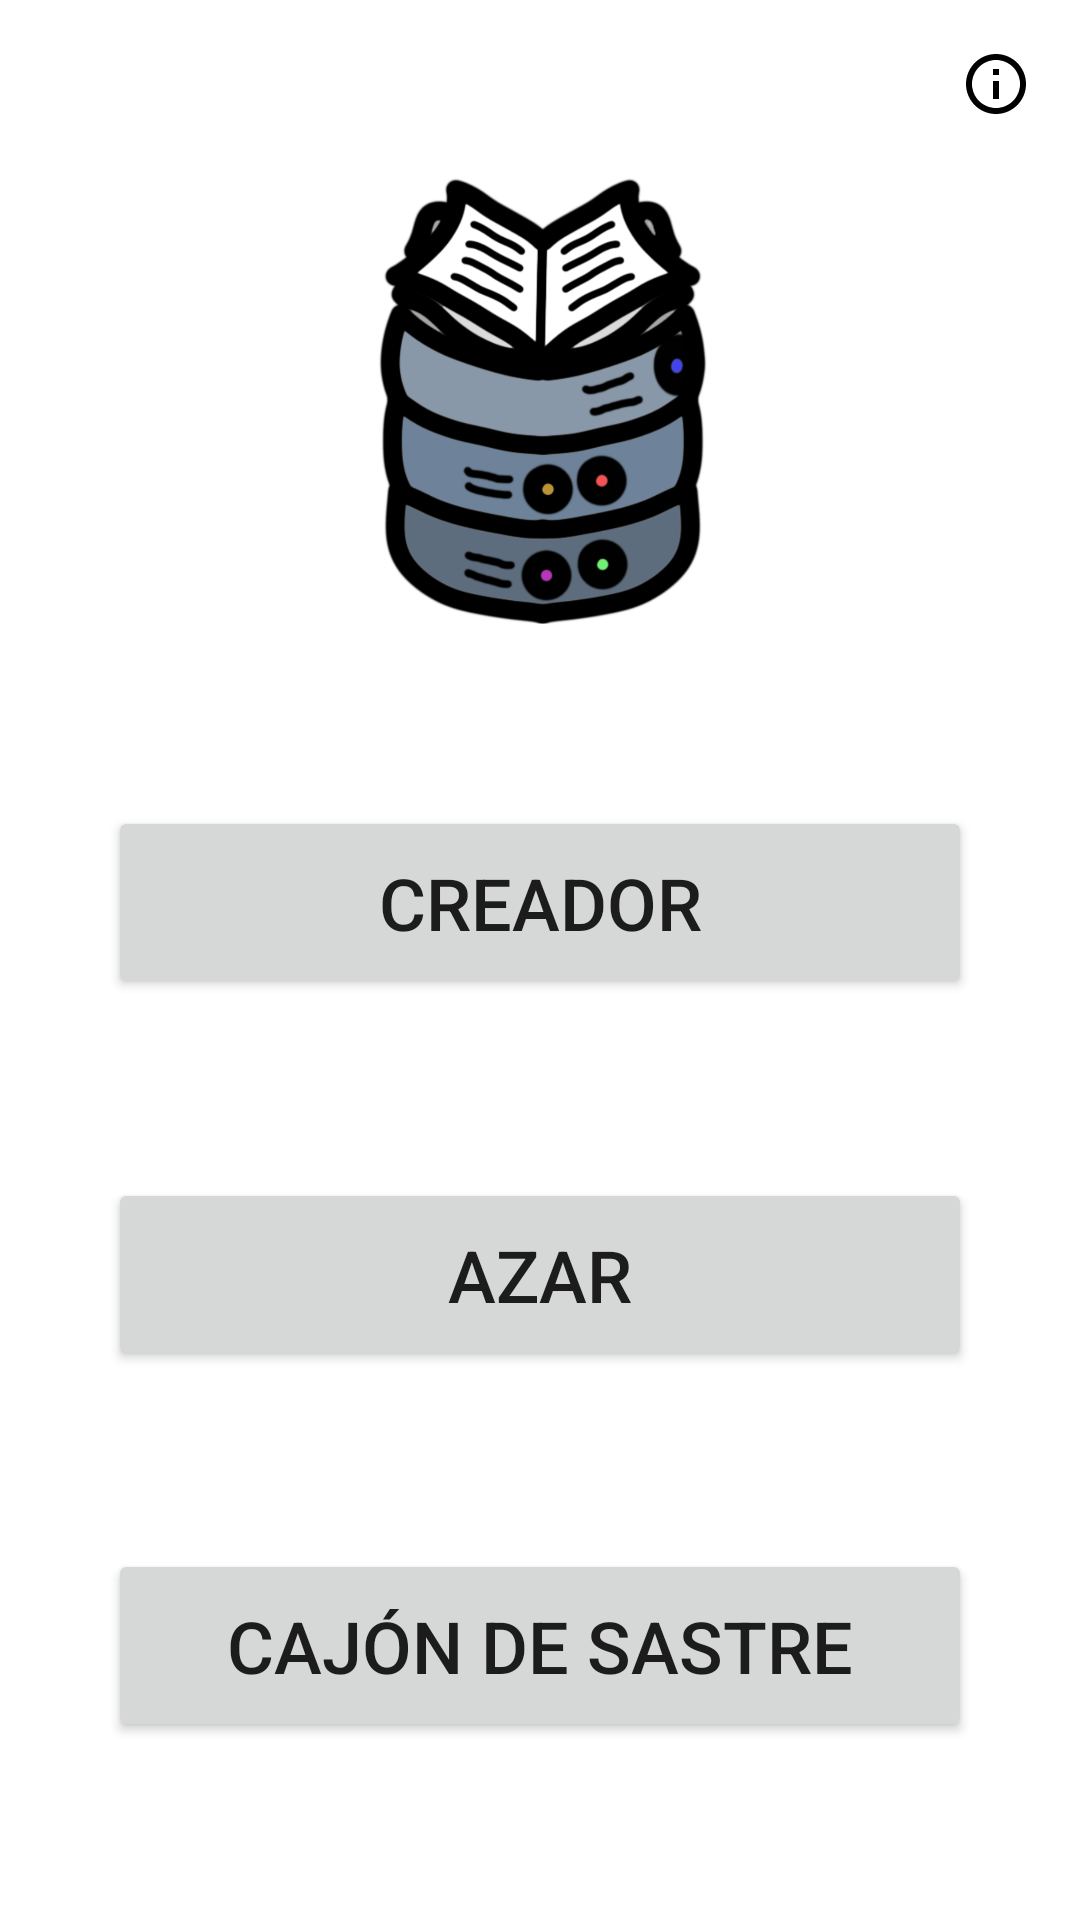

Icons on this 1080 x 1920 Android screen, each with its box as {"left": x1, "top": y1, "right": x2, "bottom": y2}:
info: {"left": 966, "top": 54, "right": 1026, "bottom": 114}
